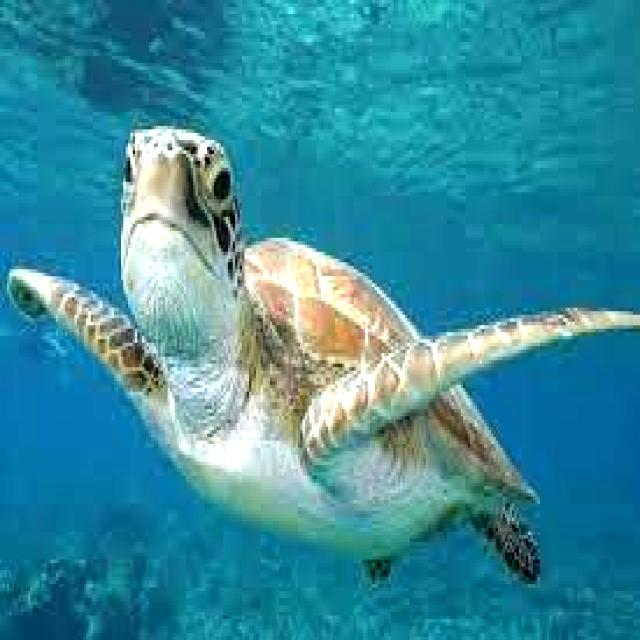Sea turtle: (2, 122, 640, 580)
